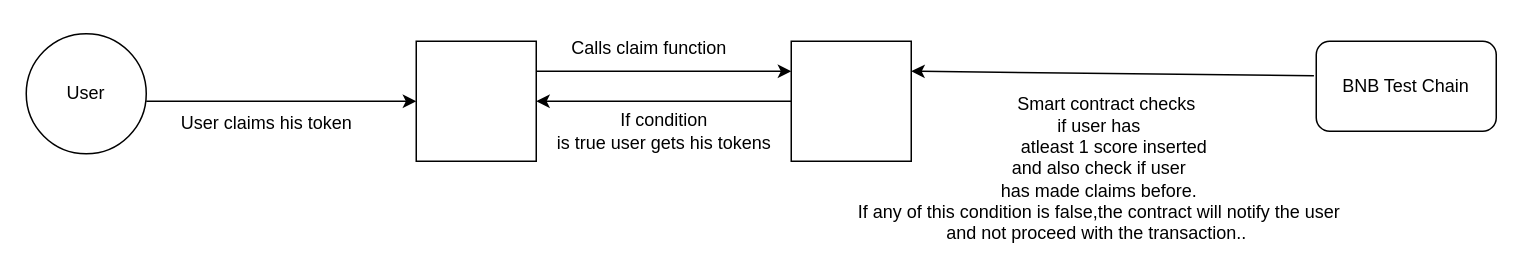
This 1523x276 diagram has some shape labels left out. The shapes that lost their labels are listed below. From the top down, each one's centre as x and y in pixels, then its label:
At point 475,100: "React webpage".
At point 850,100: "Smart Contract".
